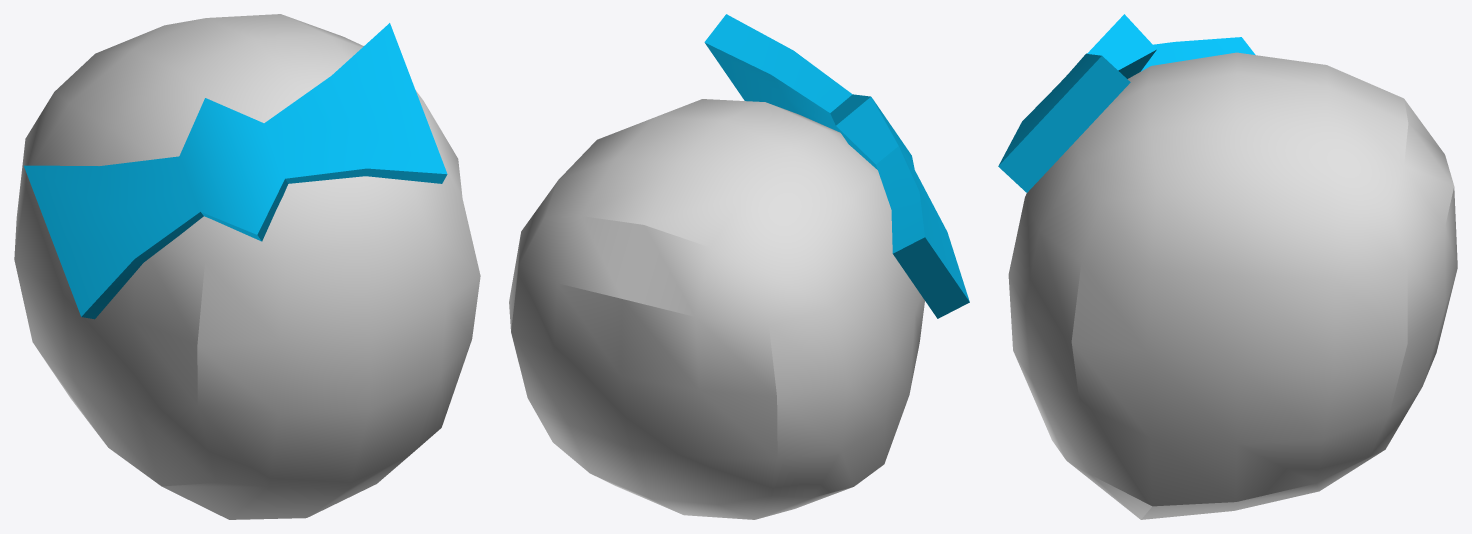
The model's file is Proton.fbx.
3 views of the same model, side by side, from view 1: azimuth 30°, elevation 25°; view 2: azimuth 150°, elevation 25°; view 3: azimuth 270°, elevation 25° (orthographic). The views are drawn at different scales.
Visible parts, largest first — view 1: PROTON, PROTON_TIE; view 2: PROTON, PROTON_TIE; view 3: PROTON, PROTON_TIE.
Part boxes in pixels (x1,y1,x2,y2): PROTON: (14,14,480,519); PROTON_TIE: (24,23,447,319); PROTON: (509,99,924,519); PROTON_TIE: (704,14,969,318); PROTON: (1008,52,1457,519); PROTON_TIE: (998,14,1255,192).
Bounding box in the file's own units: 218 × 245 × 216.
